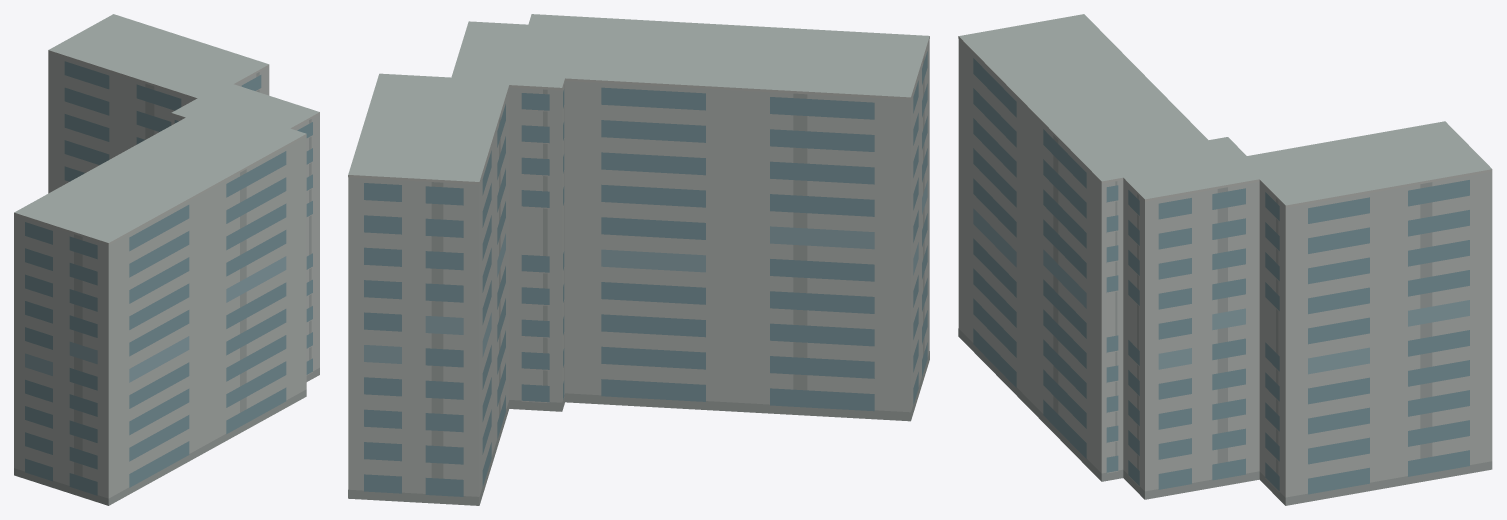
Rendered from residential-93cce3cb-884a-486f-9240-3b4ea2aaf94c.glb.
3 views of the same model, side by side, from view 1: azimuth 30°, elevation 25°; view 2: azimuth 150°, elevation 25°; view 3: azimuth 270°, elevation 25° (orthographic). The views are drawn at different scales.
Parts seen in each view (by area): view 1: residential-93cce3cb-884a-486f-9240-3b4ea2aaf94c.tmp; view 2: residential-93cce3cb-884a-486f-9240-3b4ea2aaf94c.tmp; view 3: residential-93cce3cb-884a-486f-9240-3b4ea2aaf94c.tmp.
Boxes of the visible parts, x1,y1,x2,y2 form: residential-93cce3cb-884a-486f-9240-3b4ea2aaf94c.tmp: (14, 14, 319, 505); residential-93cce3cb-884a-486f-9240-3b4ea2aaf94c.tmp: (348, 14, 929, 505); residential-93cce3cb-884a-486f-9240-3b4ea2aaf94c.tmp: (958, 14, 1492, 505).
Bounding box in the file's own units: 41.71 × 30.5 × 49.14.
